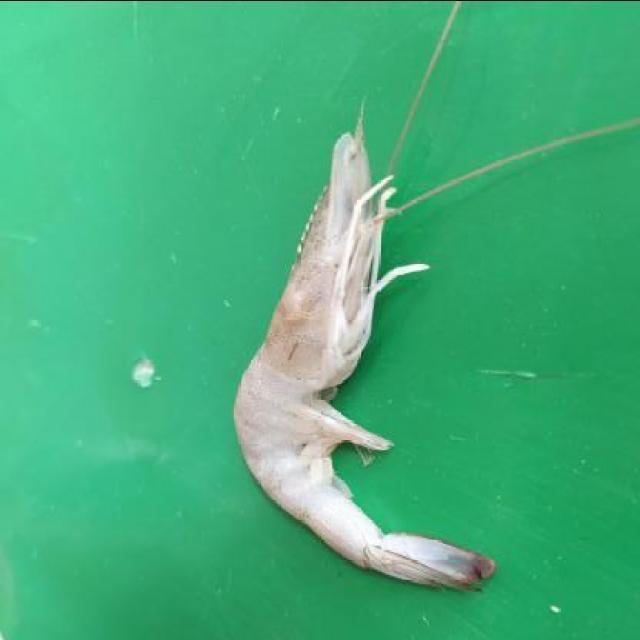shrimp: (236, 138, 461, 582)
